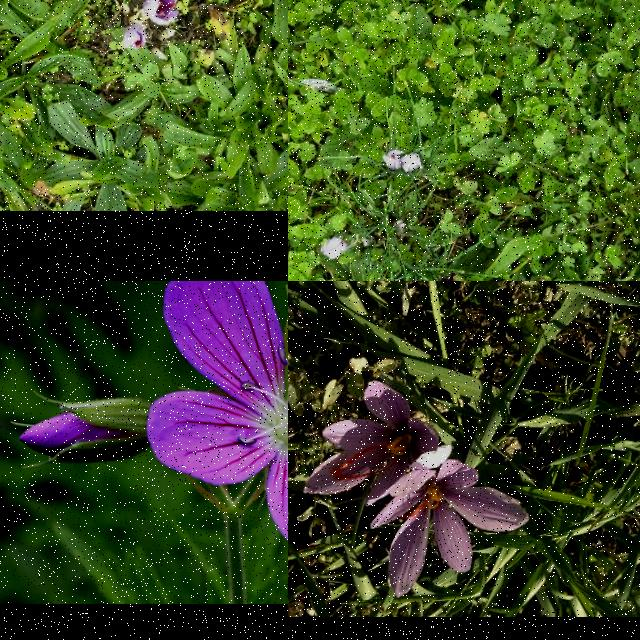flower: (370, 461, 530, 597), (303, 382, 451, 506), (142, 0, 179, 26), (123, 26, 145, 52), (322, 238, 348, 260)
overlap: (383, 152, 422, 172)
